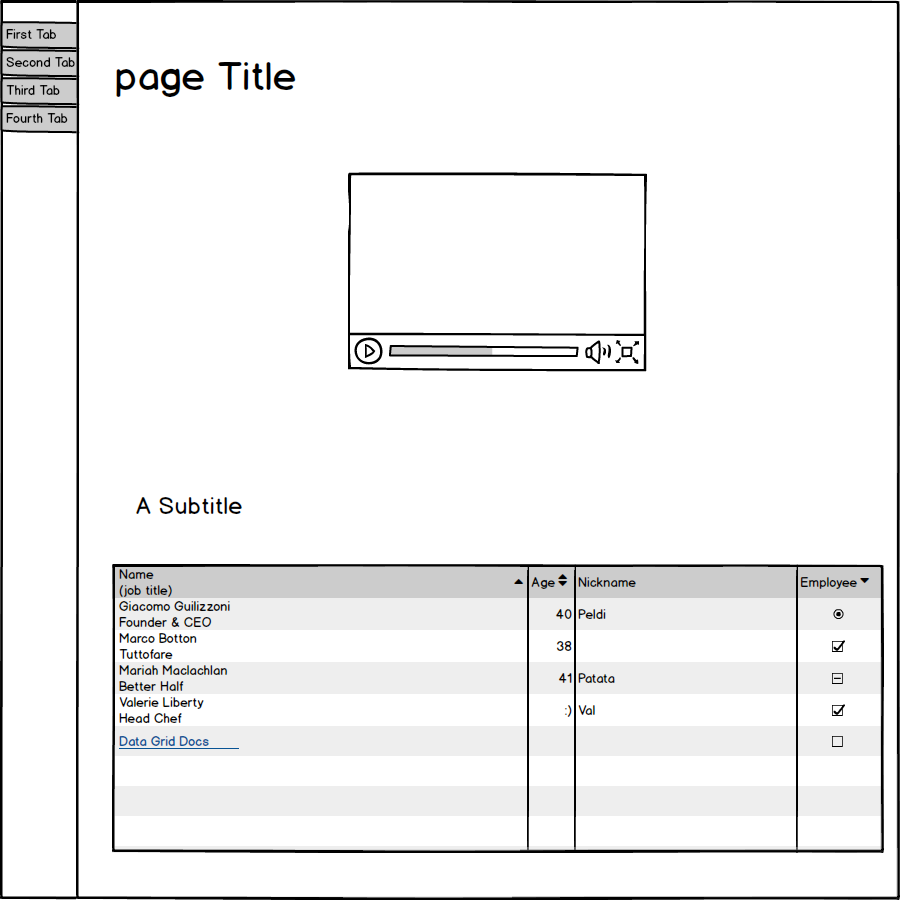h1: (108, 56, 304, 107), (127, 480, 255, 529)
sidebar: (1, 12, 86, 141)
table: (107, 558, 892, 859)
video: (339, 166, 653, 381)
